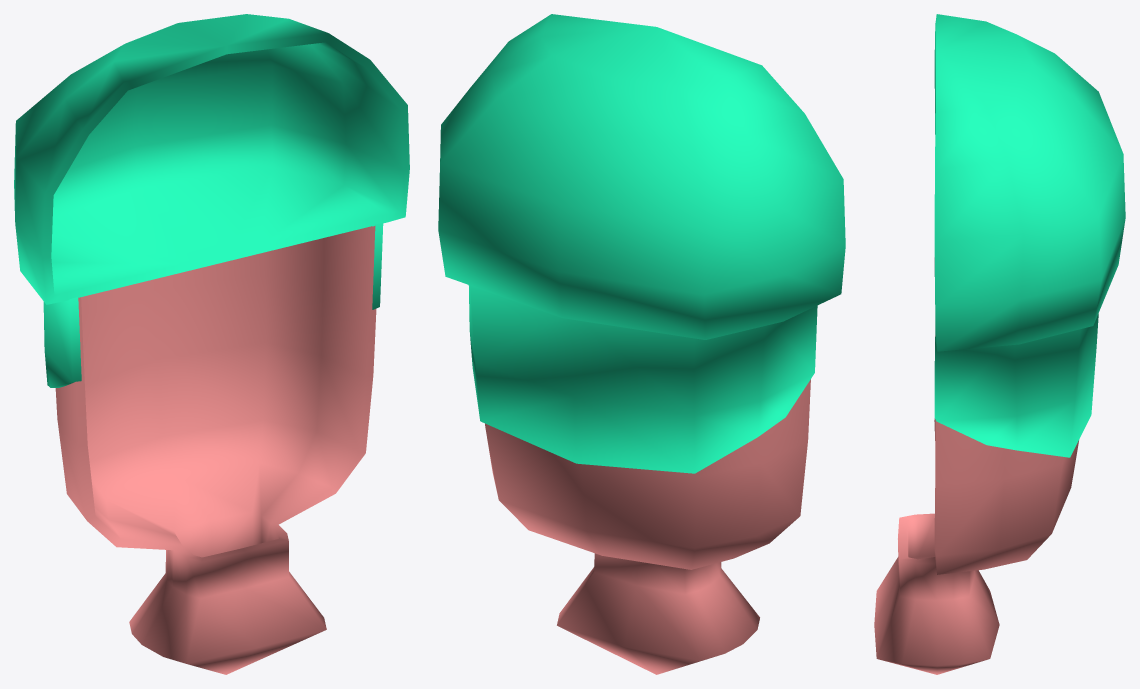
The model's file is convobot_head_back.fbx.
3 renders of one model, left to right at view 1: azimuth 30°, elevation 25°; view 2: azimuth 150°, elevation 25°; view 3: azimuth 270°, elevation 25°, orthographic. The views are drawn at different scales.
Visible parts, largest first — view 1: head_back, hair_bowl_back, hair_back; view 2: hair_bowl_back, head_back, hair_back; view 3: hair_bowl_back, head_back, hair_back.
Boxes of the visible parts, box(x1,y1,x2,y2) form: head_back: box(55, 226, 376, 674); hair_bowl_back: box(14, 14, 409, 304); hair_back: box(43, 223, 383, 387); hair_bowl_back: box(438, 14, 845, 339); head_back: box(485, 379, 810, 674); hair_back: box(468, 285, 817, 473); hair_bowl_back: box(934, 14, 1125, 351); head_back: box(874, 335, 1078, 674); hair_back: box(934, 257, 1098, 457).
Bounding box in the file's own units: 691 × 1132 × 413.
